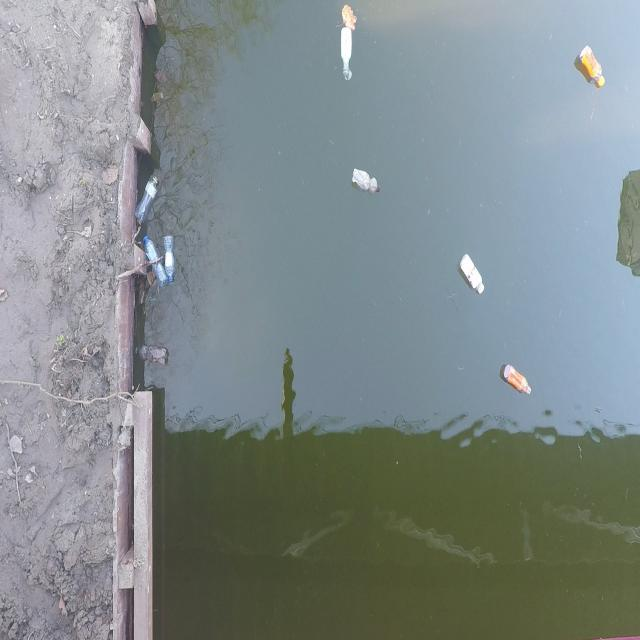Bouteille plastique: (142, 235, 171, 293), (133, 174, 160, 231), (576, 46, 606, 89), (503, 362, 531, 398), (460, 255, 484, 295), (338, 26, 354, 80), (350, 168, 380, 193), (136, 344, 169, 366), (164, 236, 178, 278)
